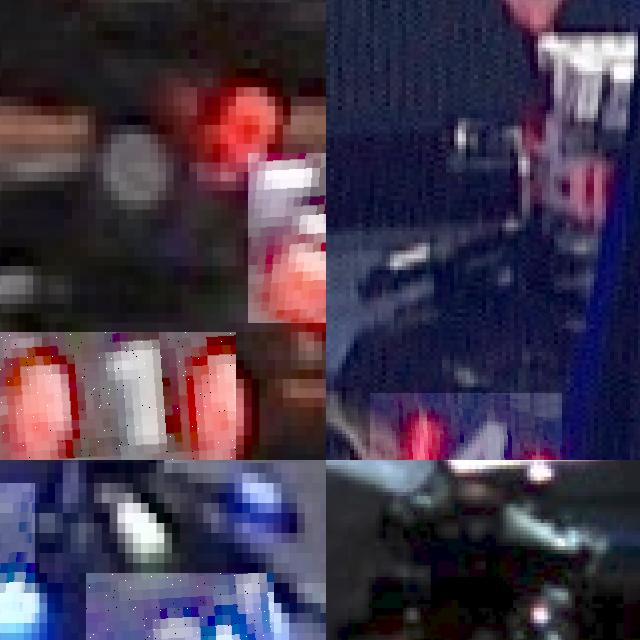B3: (86, 573, 273, 640)
R1: (0, 331, 236, 460), (247, 153, 326, 322)
R4: (370, 392, 562, 460)
